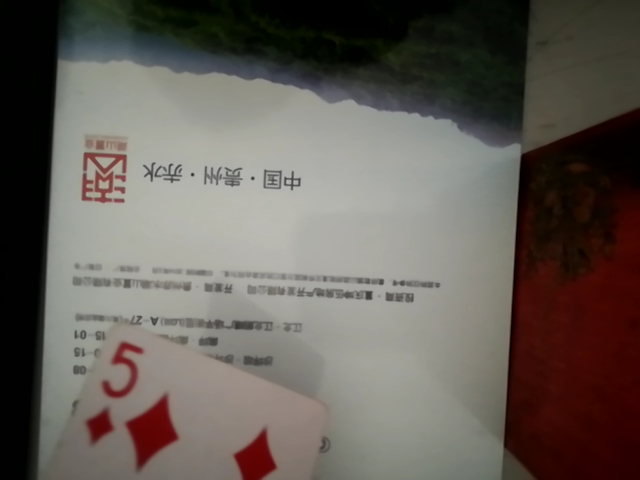fk 5: (22, 301, 363, 478)
